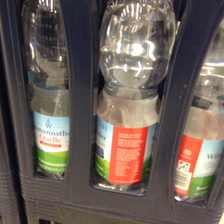water: (96, 1, 175, 193), (21, 1, 68, 179)
